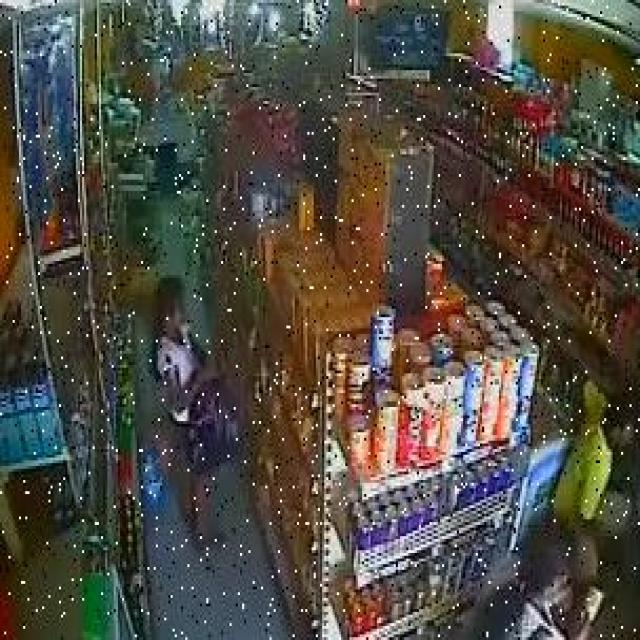Shoplifting: (137, 257, 278, 574)
